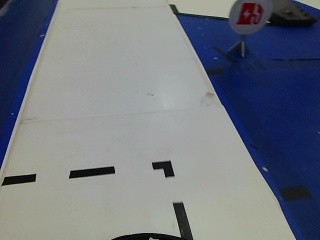battery: (229, 0, 275, 37)
